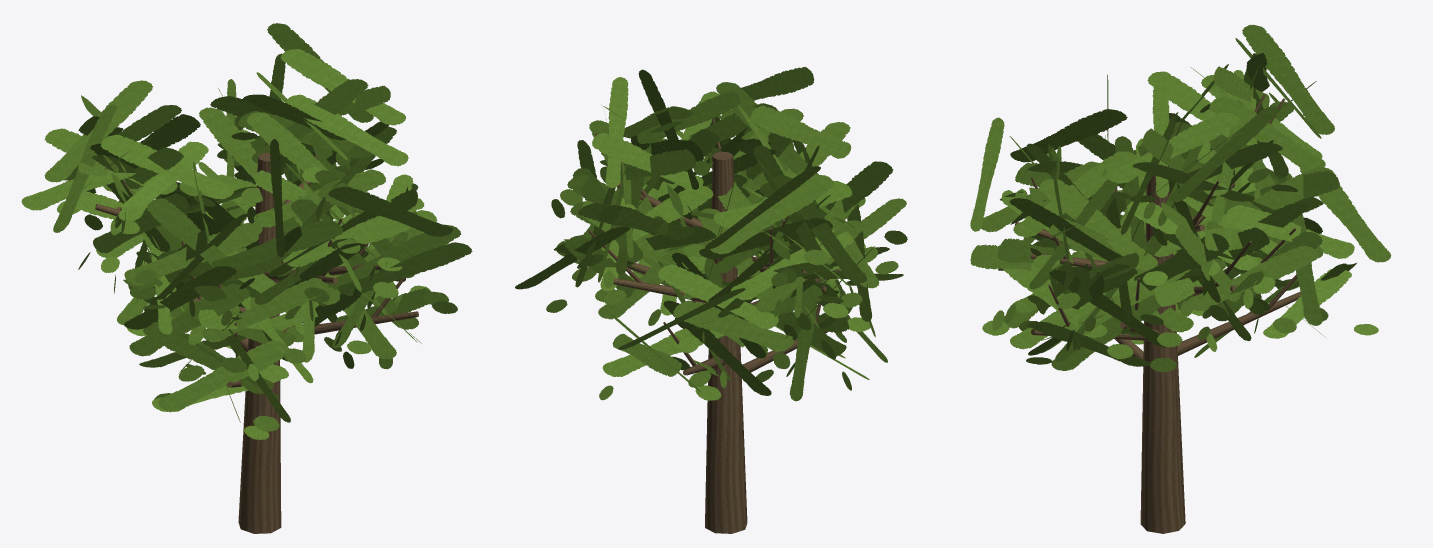
3 views of the same model, side by side, from view 1: azimuth 30°, elevation 25°; view 2: azimuth 150°, elevation 25°; view 3: azimuth 270°, elevation 25° (orthographic). The views are drawn at different scales.
Parts seen in each view (by area): view 1: oak-leaf, oak-bark; view 2: oak-leaf, oak-bark; view 3: oak-leaf, oak-bark.
Boxes of the visible parts, x1,y1,x2,y2 form: oak-leaf: (21,23,472,439); oak-bark: (95,153,418,533); oak-leaf: (515,67,907,401); oak-bark: (588,119,849,533); oak-leaf: (970,24,1391,372); oak-bark: (1015,94,1301,533).
Size of the model in its own units: 8.11 by 9.55 by 8.87.
Materials: 2 (2 with a texture image).
